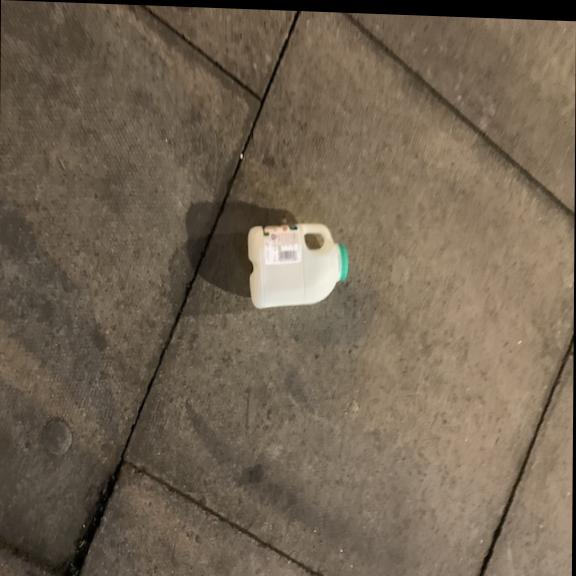Plastik: (236, 205, 354, 327)
